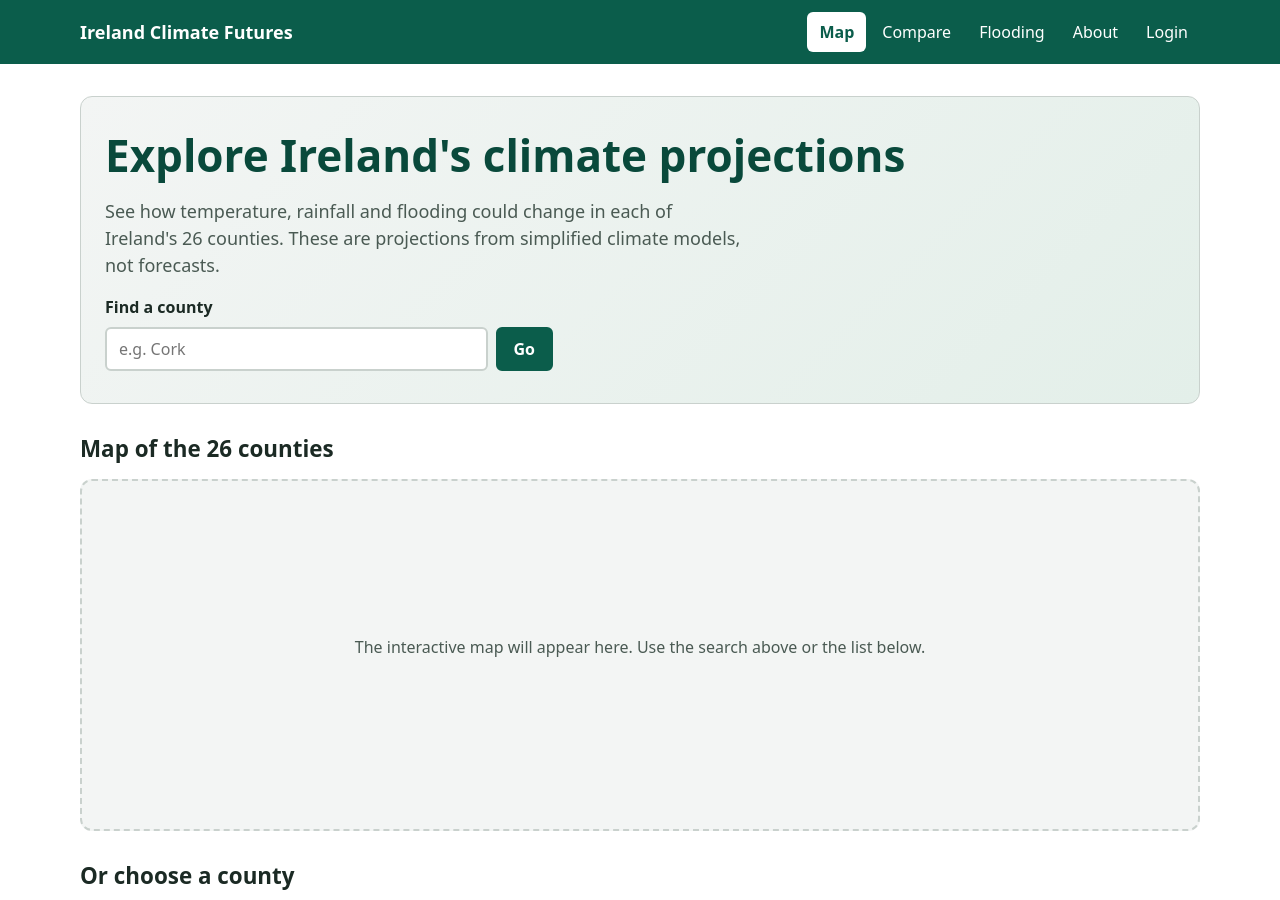
Test: moving around the site › moves through several pages in a row, updating the current-page highlight
Click the link "Flooding" at (1012, 32), box x1=979 y1=21 x2=1045 y2=43
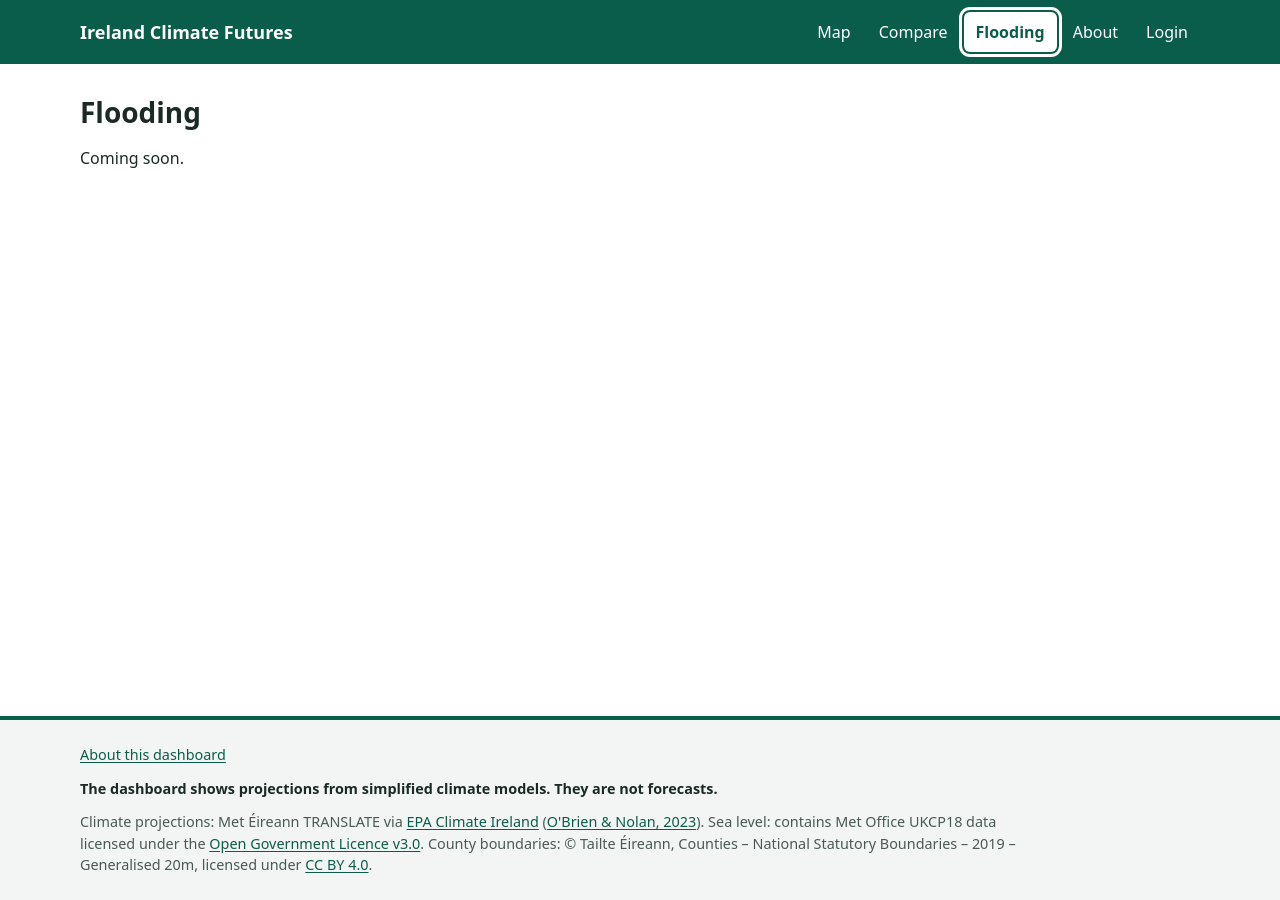
Expected: the heading "Flooding" is shown, x1=80 y1=93 x2=201 y2=131
Expected: the link "Flooding" is marked as current, x1=964 y1=12 x2=1057 y2=52
Click the link "Login" at (1167, 32), box x1=1146 y1=21 x2=1188 y2=43
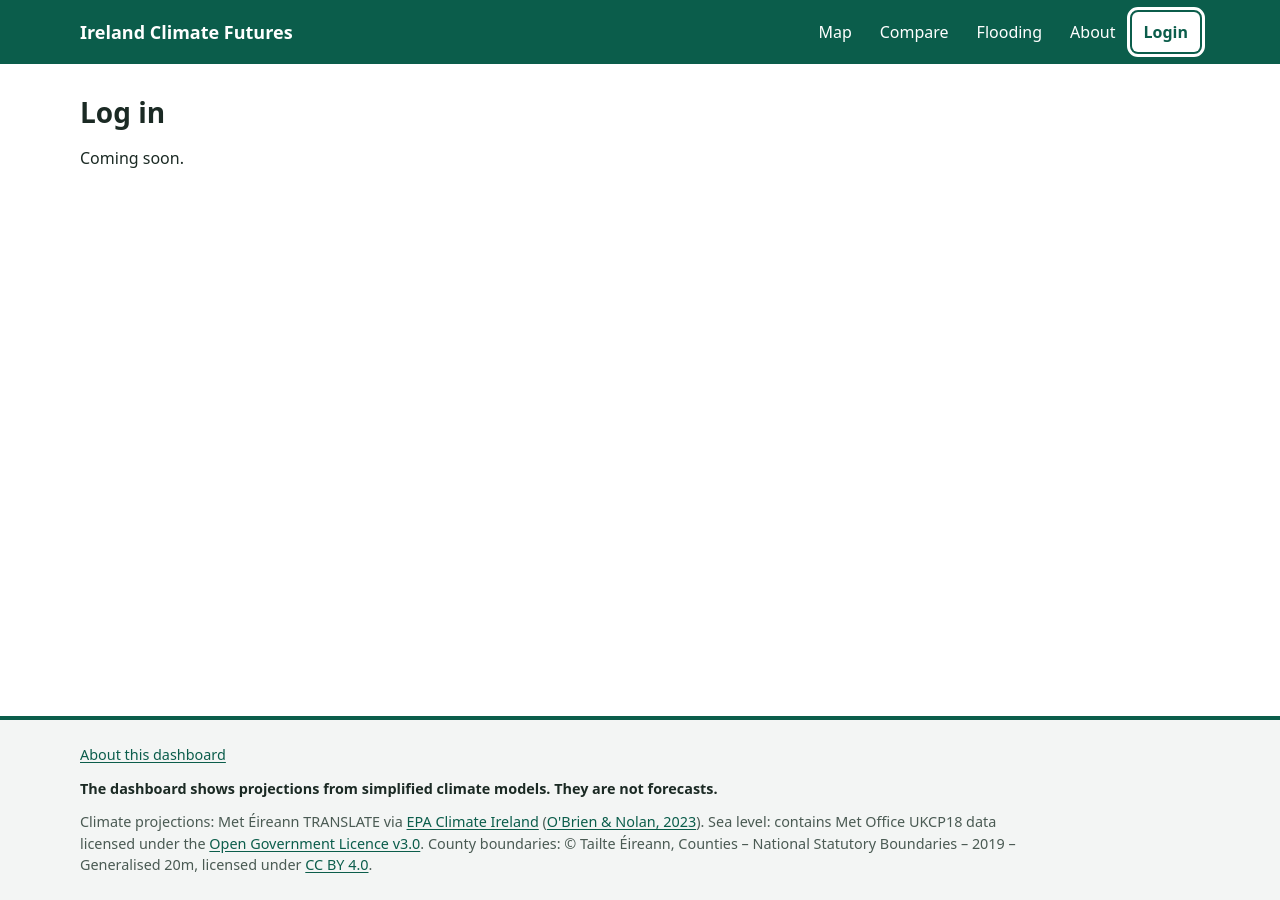
Expected: the heading "Log in" is shown, x1=80 y1=93 x2=165 y2=131
